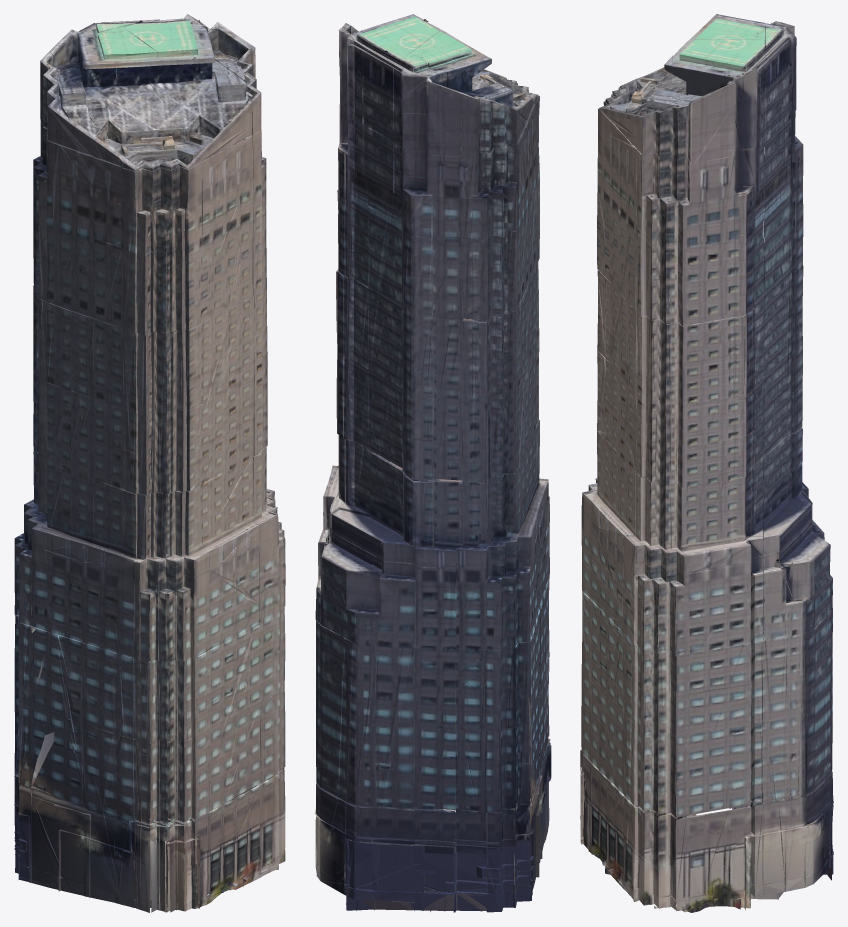
The model's file is Shibuya_T2.obj.
3 renders of one model, left to right at view 1: azimuth 30°, elevation 25°; view 2: azimuth 150°, elevation 25°; view 3: azimuth 270°, elevation 25°, orthographic.
Visible parts, largest first — view 1: Shibuya_T2; view 2: Shibuya_T2; view 3: Shibuya_T2.
Part boxes in pixels (box(x1,y1,x2,y2)): Shibuya_T2: box(14, 14, 285, 912); Shibuya_T2: box(314, 14, 551, 912); Shibuya_T2: box(580, 14, 833, 912).
Bounding box in the file's own units: 54.71 × 188 × 52.14.
Materials: 1 (1 with a texture image).
